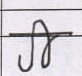i_matra: (35, 19, 53, 68)
